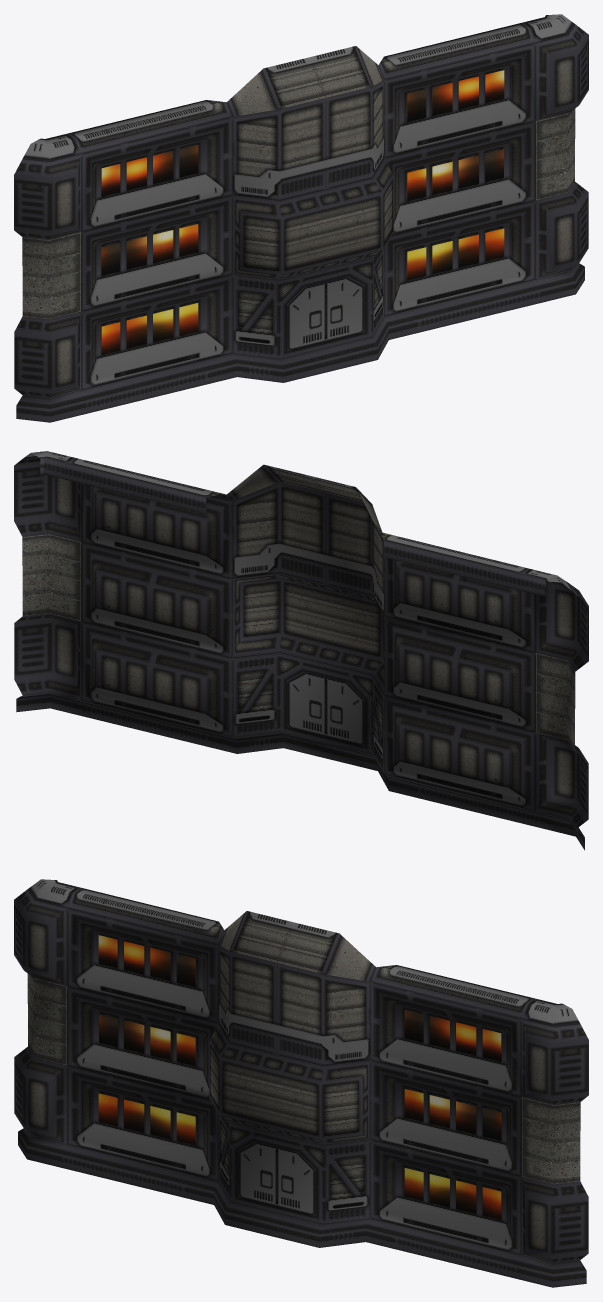
Rendered from sci fi wall.fbx.
3 views of the same model, one above another, from view 1: azimuth 30°, elevation 25°; view 2: azimuth 150°, elevation 25°; view 3: azimuth 330°, elevation 25° (orthographic).
Visible parts, largest first — view 1: house1, house1_windows; view 2: house1; view 3: house1, house1_windows.
Part boxes in pixels (box(x1,y1,x2,y2)): house1: box(14, 14, 588, 422); house1_windows: box(101, 70, 504, 354); house1: box(14, 451, 588, 850); house1: box(14, 879, 588, 1287); house1_windows: box(98, 935, 501, 1219).
Bounding box in the file's own units: 3034 × 1508 × 358.
